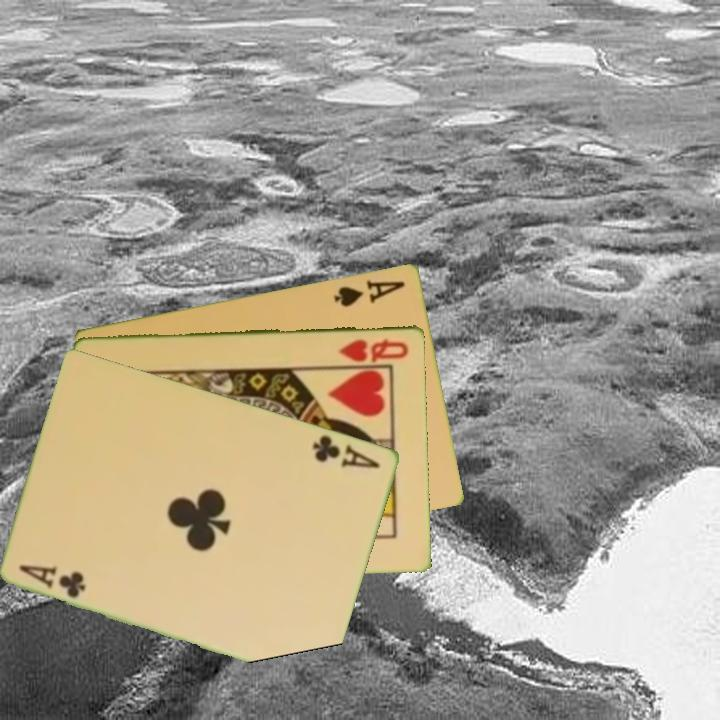Ac: (309, 431, 384, 471), (16, 560, 89, 601)
As: (331, 276, 408, 310)
Qh: (335, 335, 412, 364)
